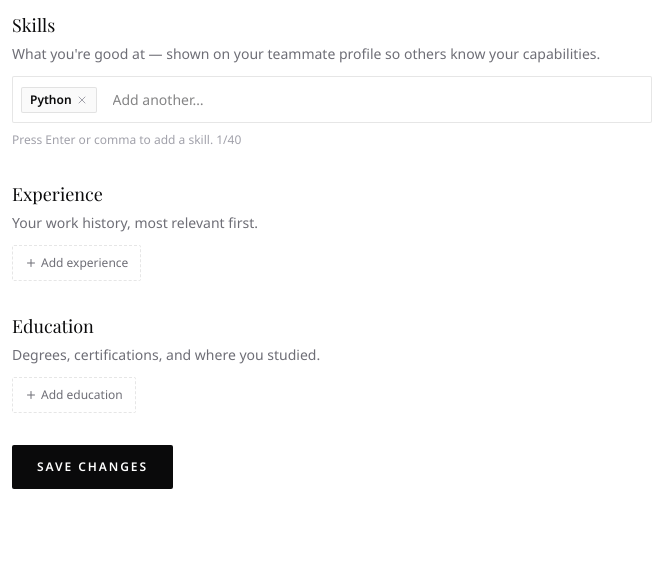
Test case: QualificationsForm › saves the current skills/experience/education on submit
Type "Figma" into the field named "Add a skill" at coordinates (374, 100), box [104,85,643,114]
Then press Enter
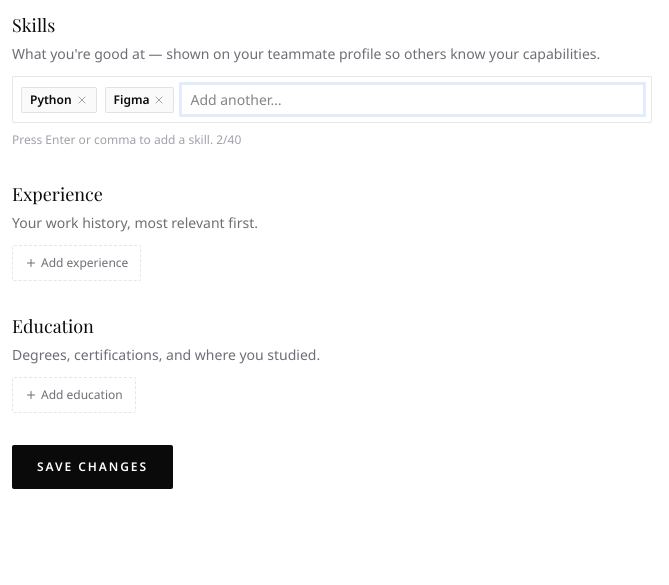
Click the button "Save changes" at coordinates (92, 467), box [12,445,173,489]
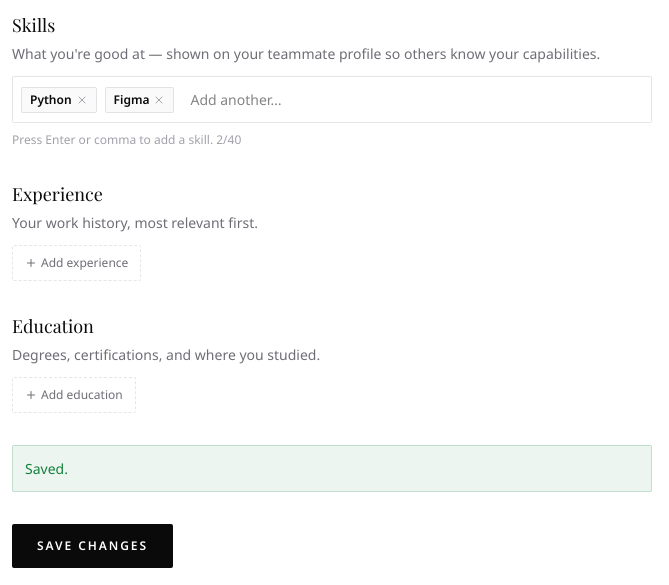
Now the text "Saved." is shown, box [12,445,652,492]
